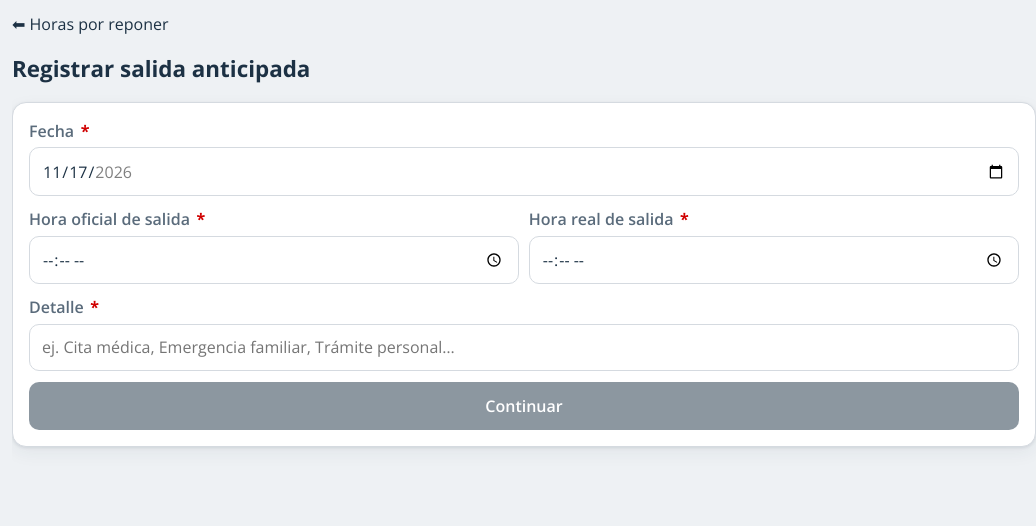
Test case: EarlyLeaveForm › avisa si la hora real no es anterior a la oficial
The image size is (1036, 526).
Type "15:00" into the time field labelled "Hora oficial de salida *".
click(274, 260); type("15:00")  # box [29,236,519,284]
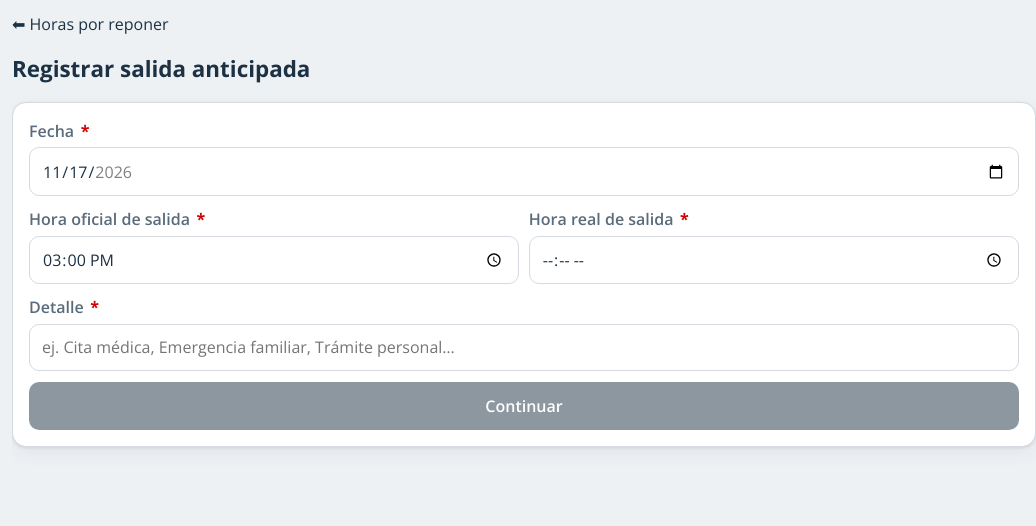
Type "16:00" into the time field labelled "Hora real de salida *".
click(774, 260); type("16:00")  # box [529,236,1019,284]
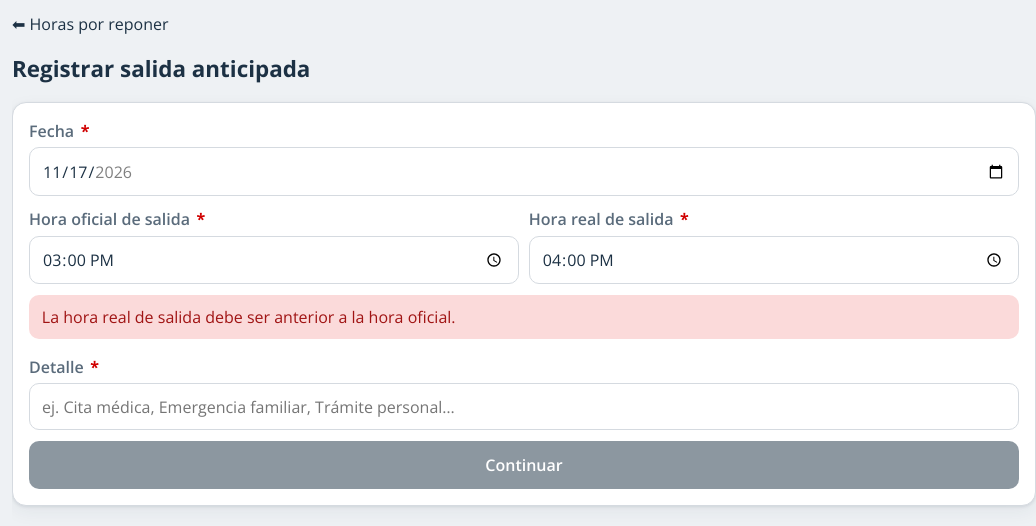
Expected: the button "Continuar" is disabled, [29,441,1019,489]
Now the text "La hora real de salida debe ser anterior a la hora oficial." is shown, box [29,295,1019,338]
